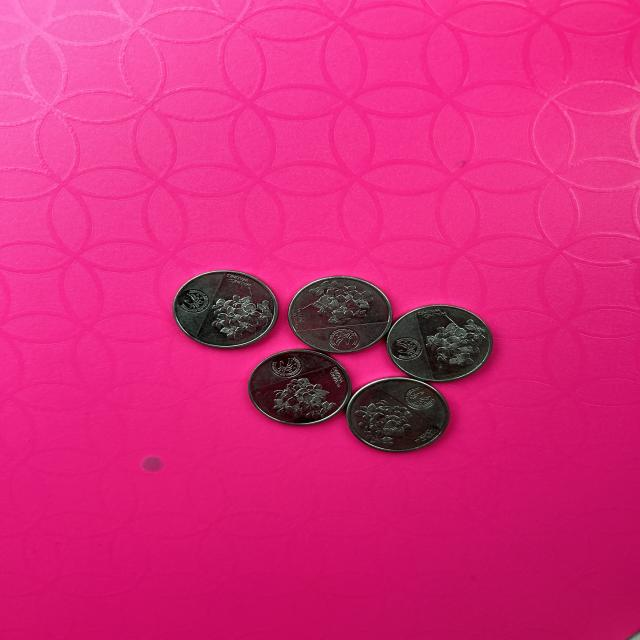1_New_Back: (414, 314, 480, 367), (354, 394, 418, 445), (212, 281, 268, 336), (302, 281, 378, 321), (272, 382, 340, 424)
